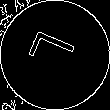L_SE: (26, 31, 84, 79)
